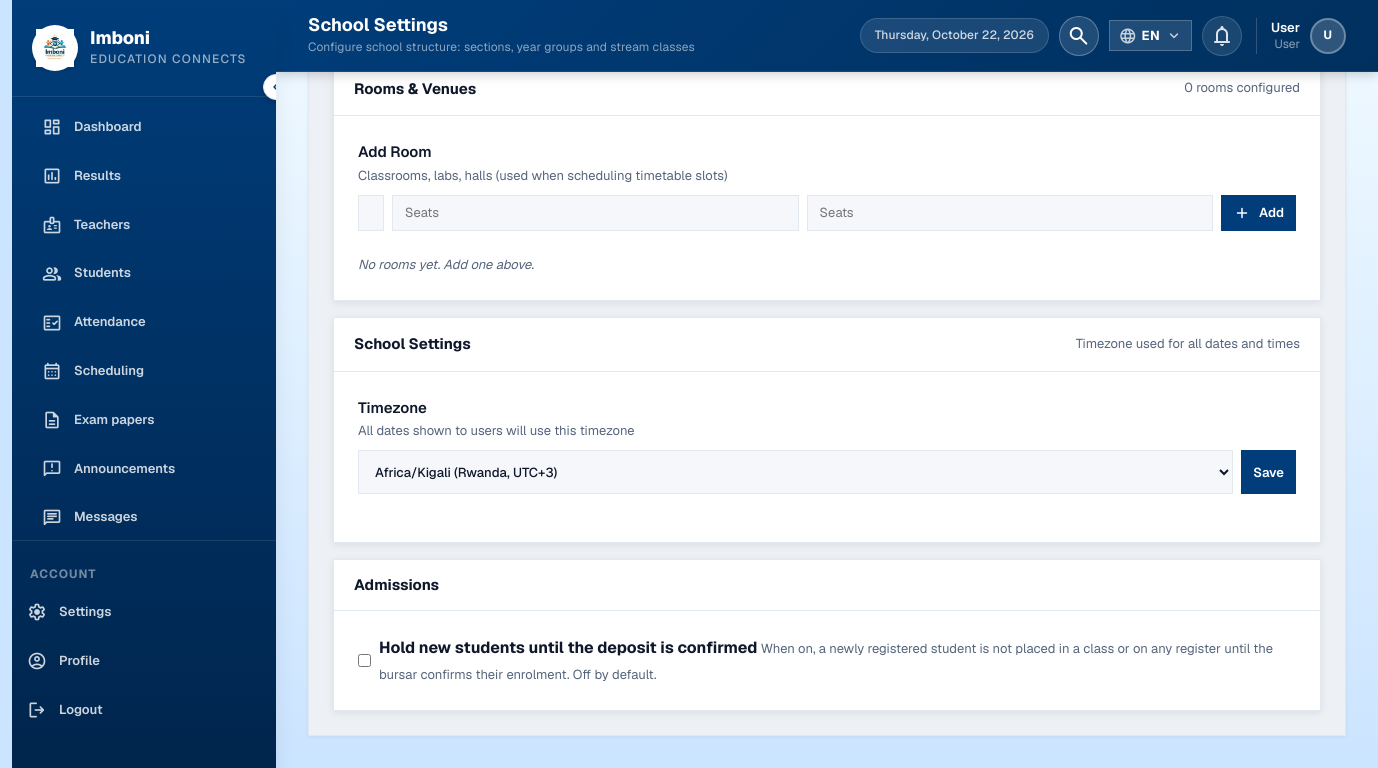
DosSettings admissions switch › saves the moment it is switched, with no Save button
This screenshot has width=1378, height=768.
(page scrolled)
Click the checkbox labelled "Hold new students until the deposit is confirmed".
click(364, 661)  # box [358,654,371,667]
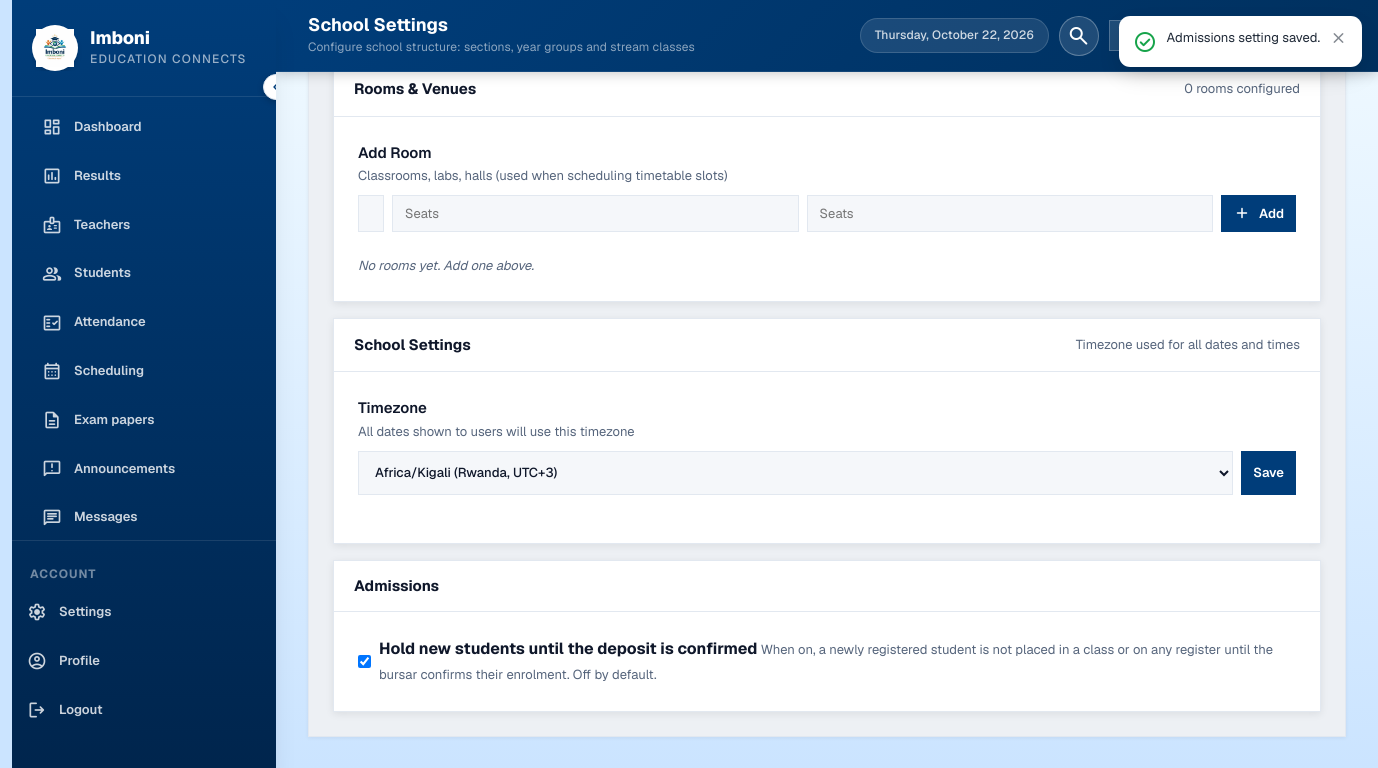
expect the text "Admissions setting saved." is shown: met, box [1167,29,1320,47]
